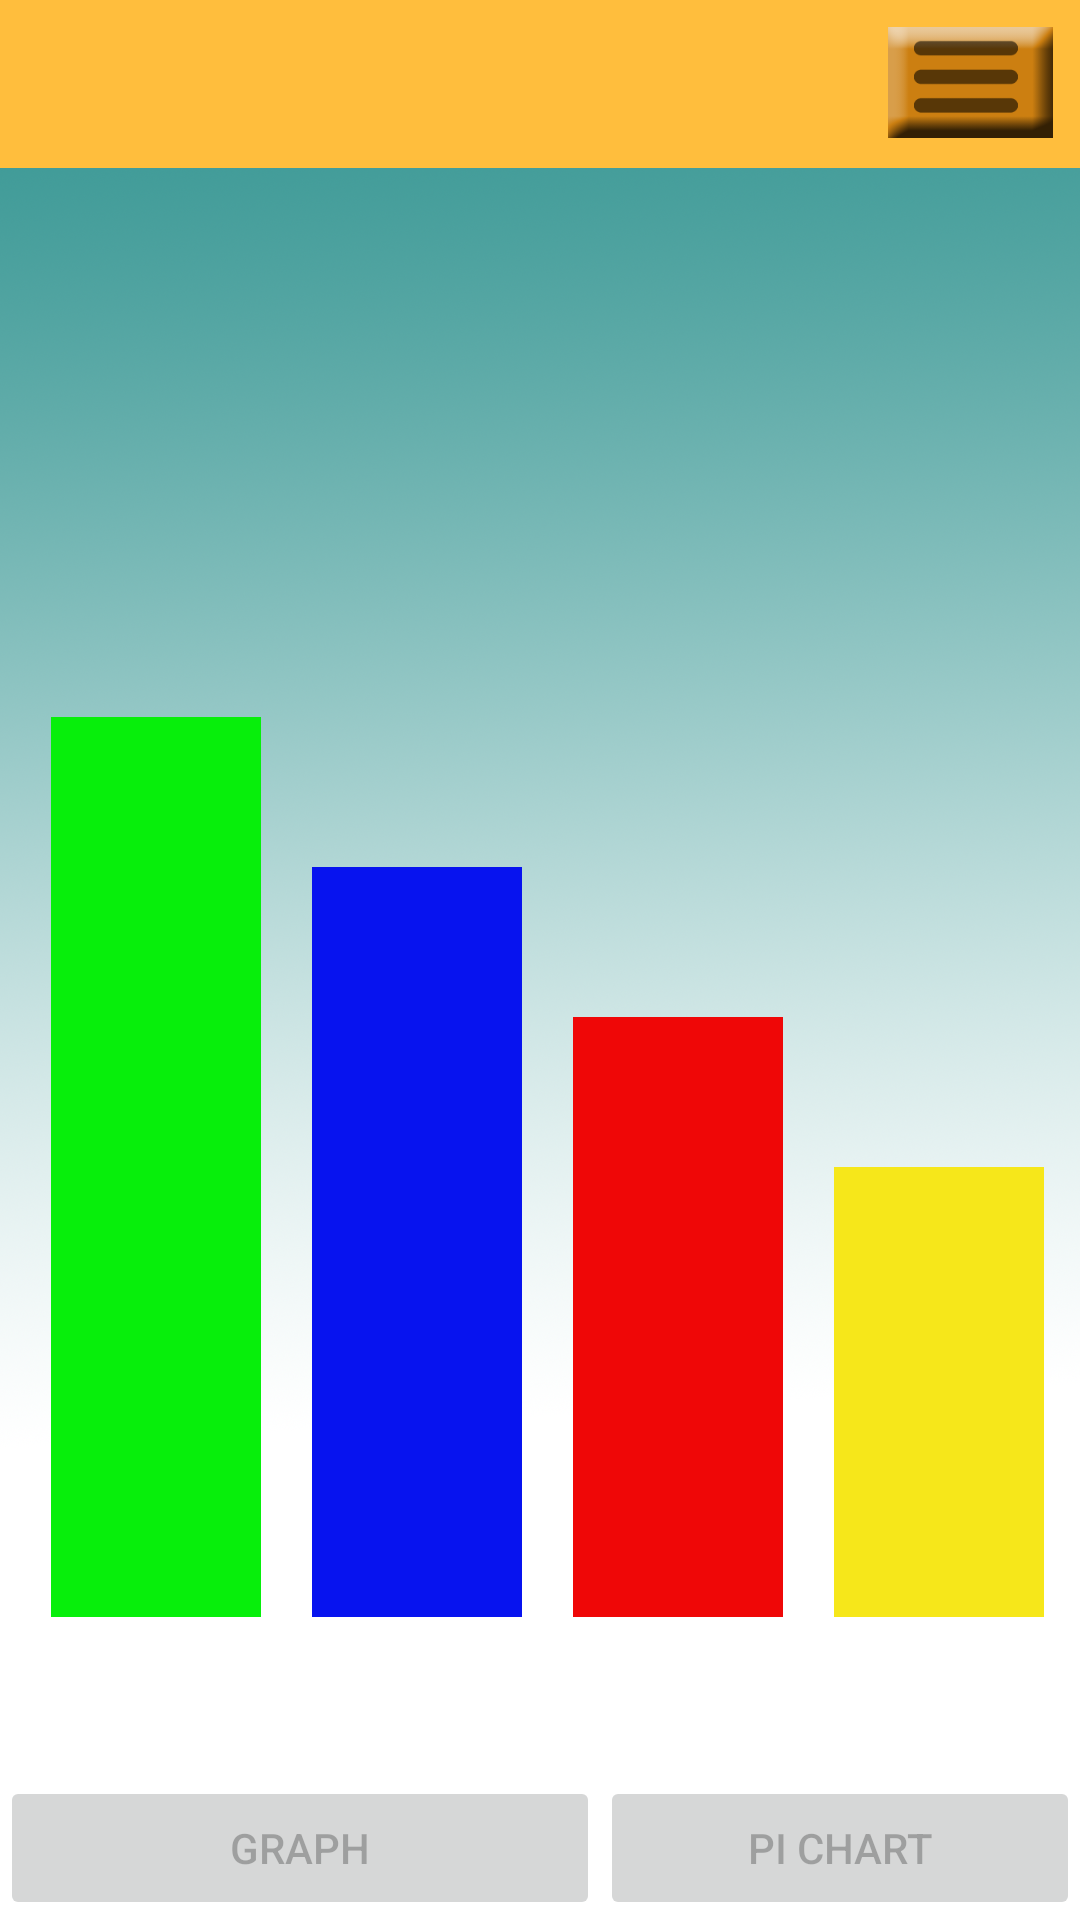

Screen size 1080px x 1920px. Icon name, then its center in pixels as [x,y]:
menue action: [970,82]
